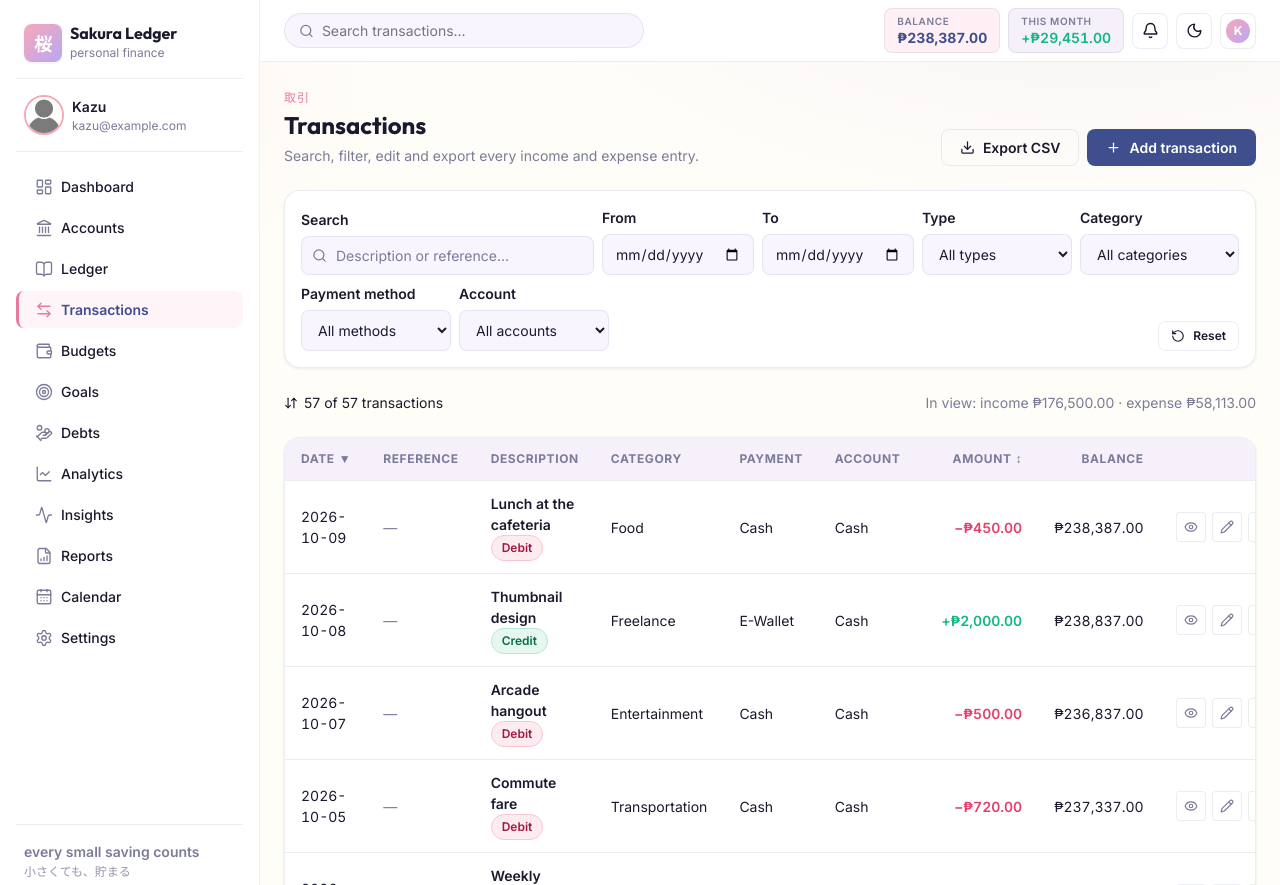
Test: essential user interaction: adding a transaction › creates a transaction through the form and lists it
The width and height of the screenshot is (1280, 885).
Expected: the heading "Transactions" is shown, x1=284 y1=110 x2=426 y2=140
Click the button "Add transaction" at (1172, 148), box x1=1088 y1=129 x2=1256 y2=166
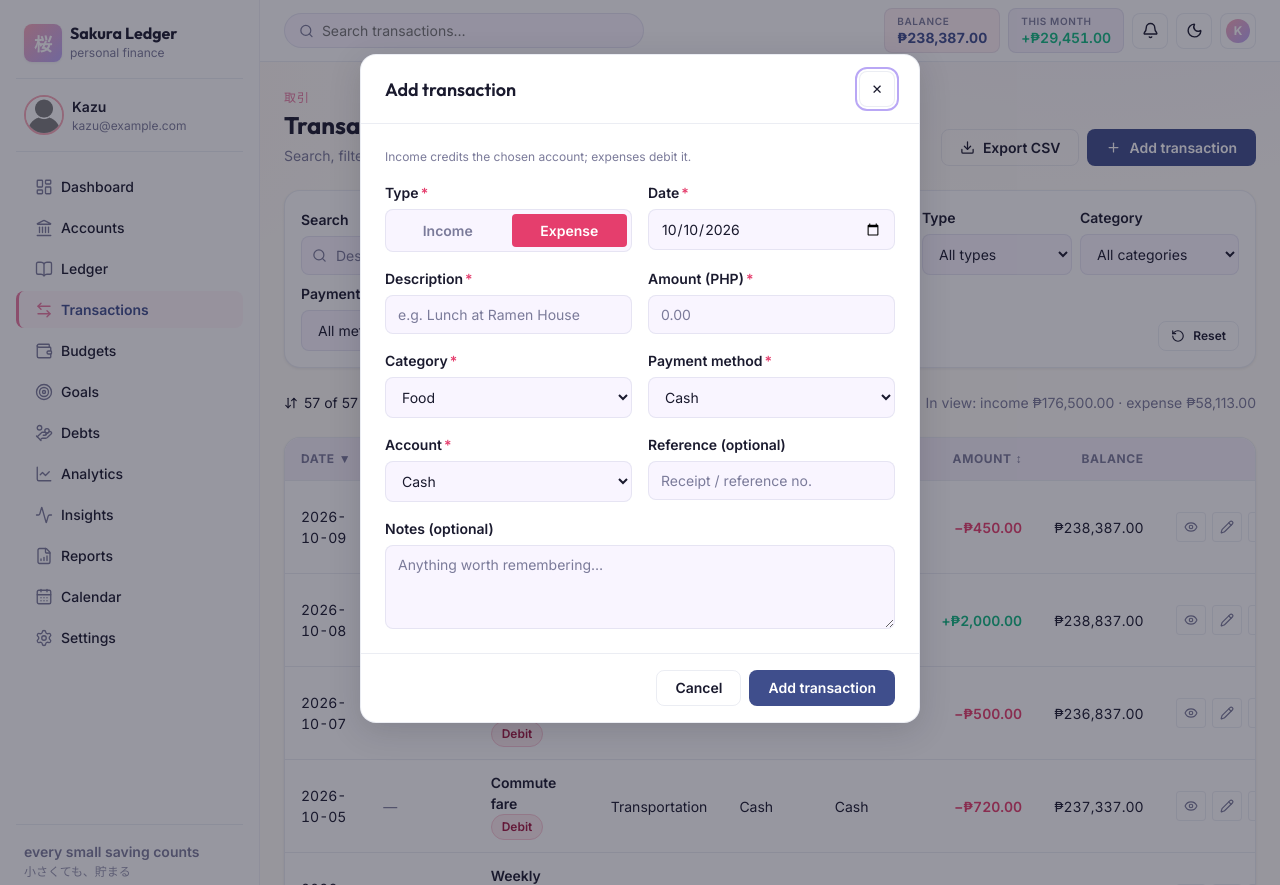
Type "Test ramen purchase" into the field labelled "Description*" at (508, 314), box x1=385 y1=295 x2=632 y2=334
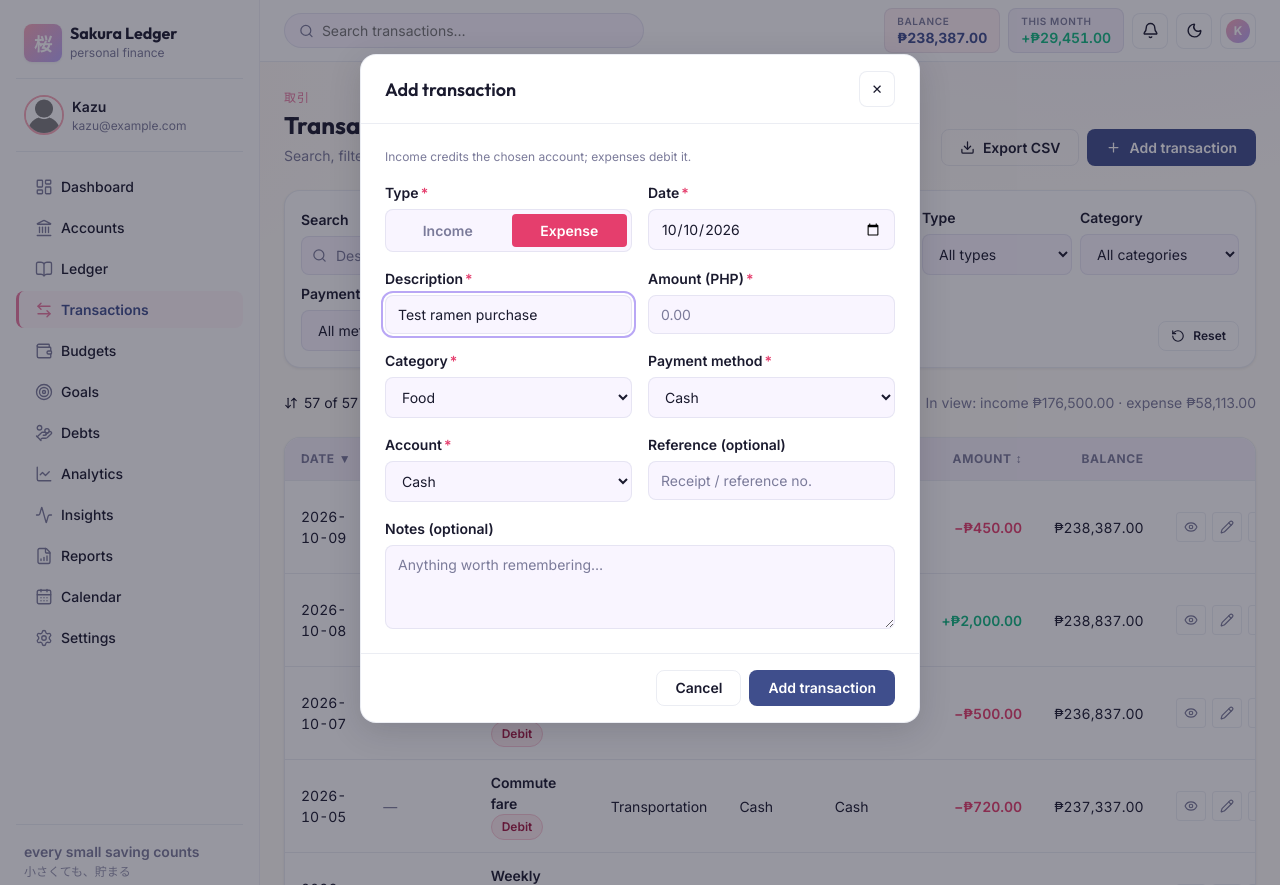
Type "250.50" into the field labelled "Amount (PHP)*" at (772, 314), box x1=648 y1=295 x2=895 y2=334
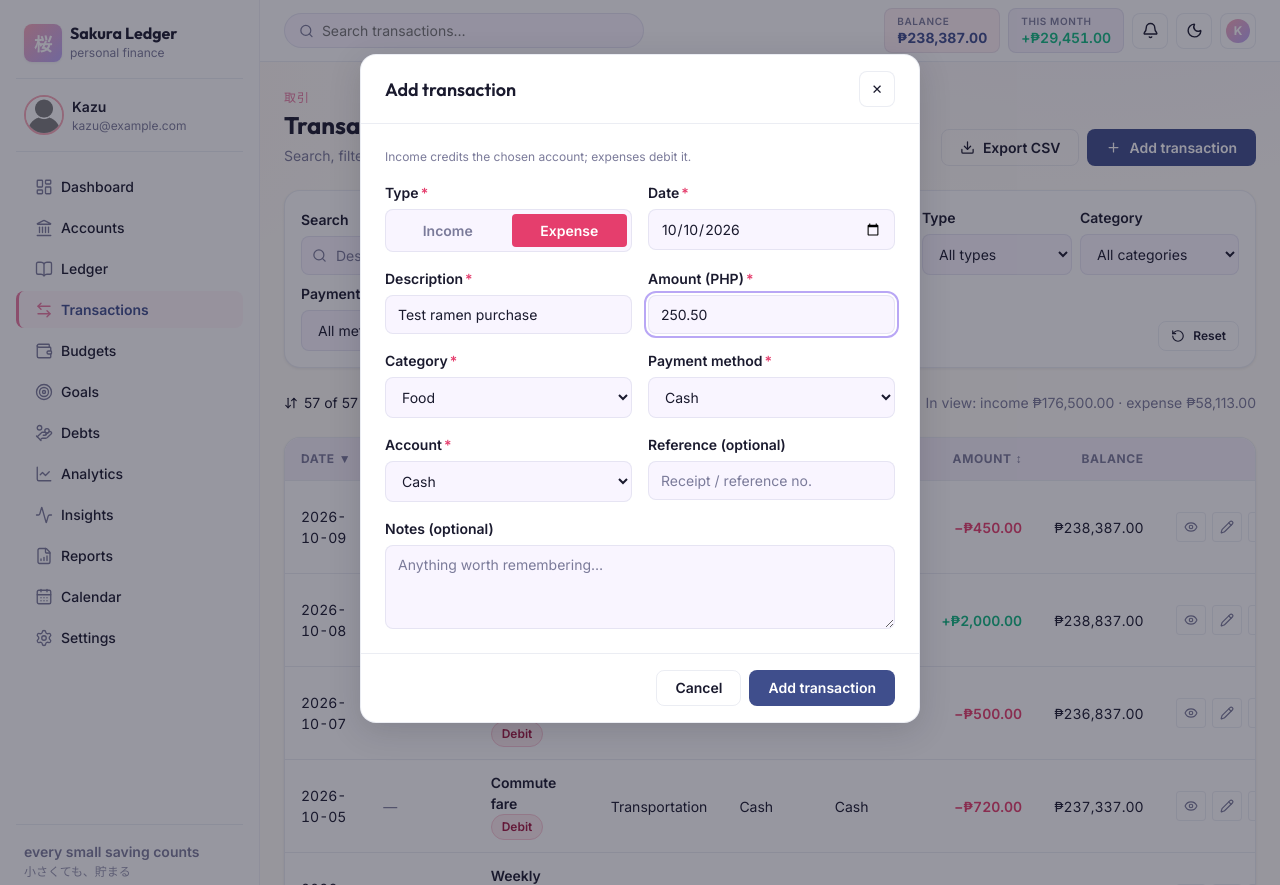
Click the button "Add transaction" at (822, 688), box x1=750 y1=670 x2=895 y2=706
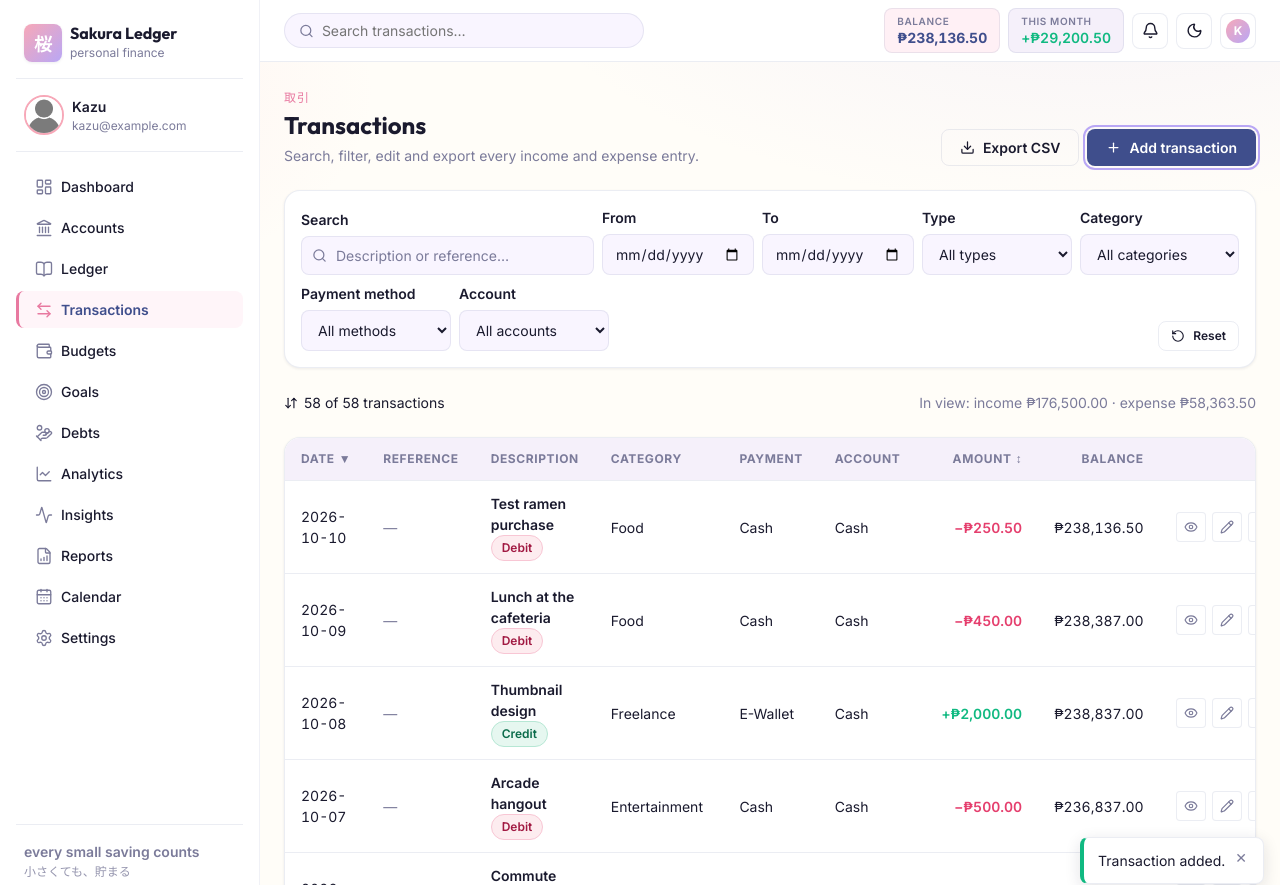
Now the text "Test ramen purchase" is shown, box x1=491 y1=493 x2=579 y2=535
Now the text "Transaction added." is shown, box x1=1098 y1=850 x2=1225 y2=871
